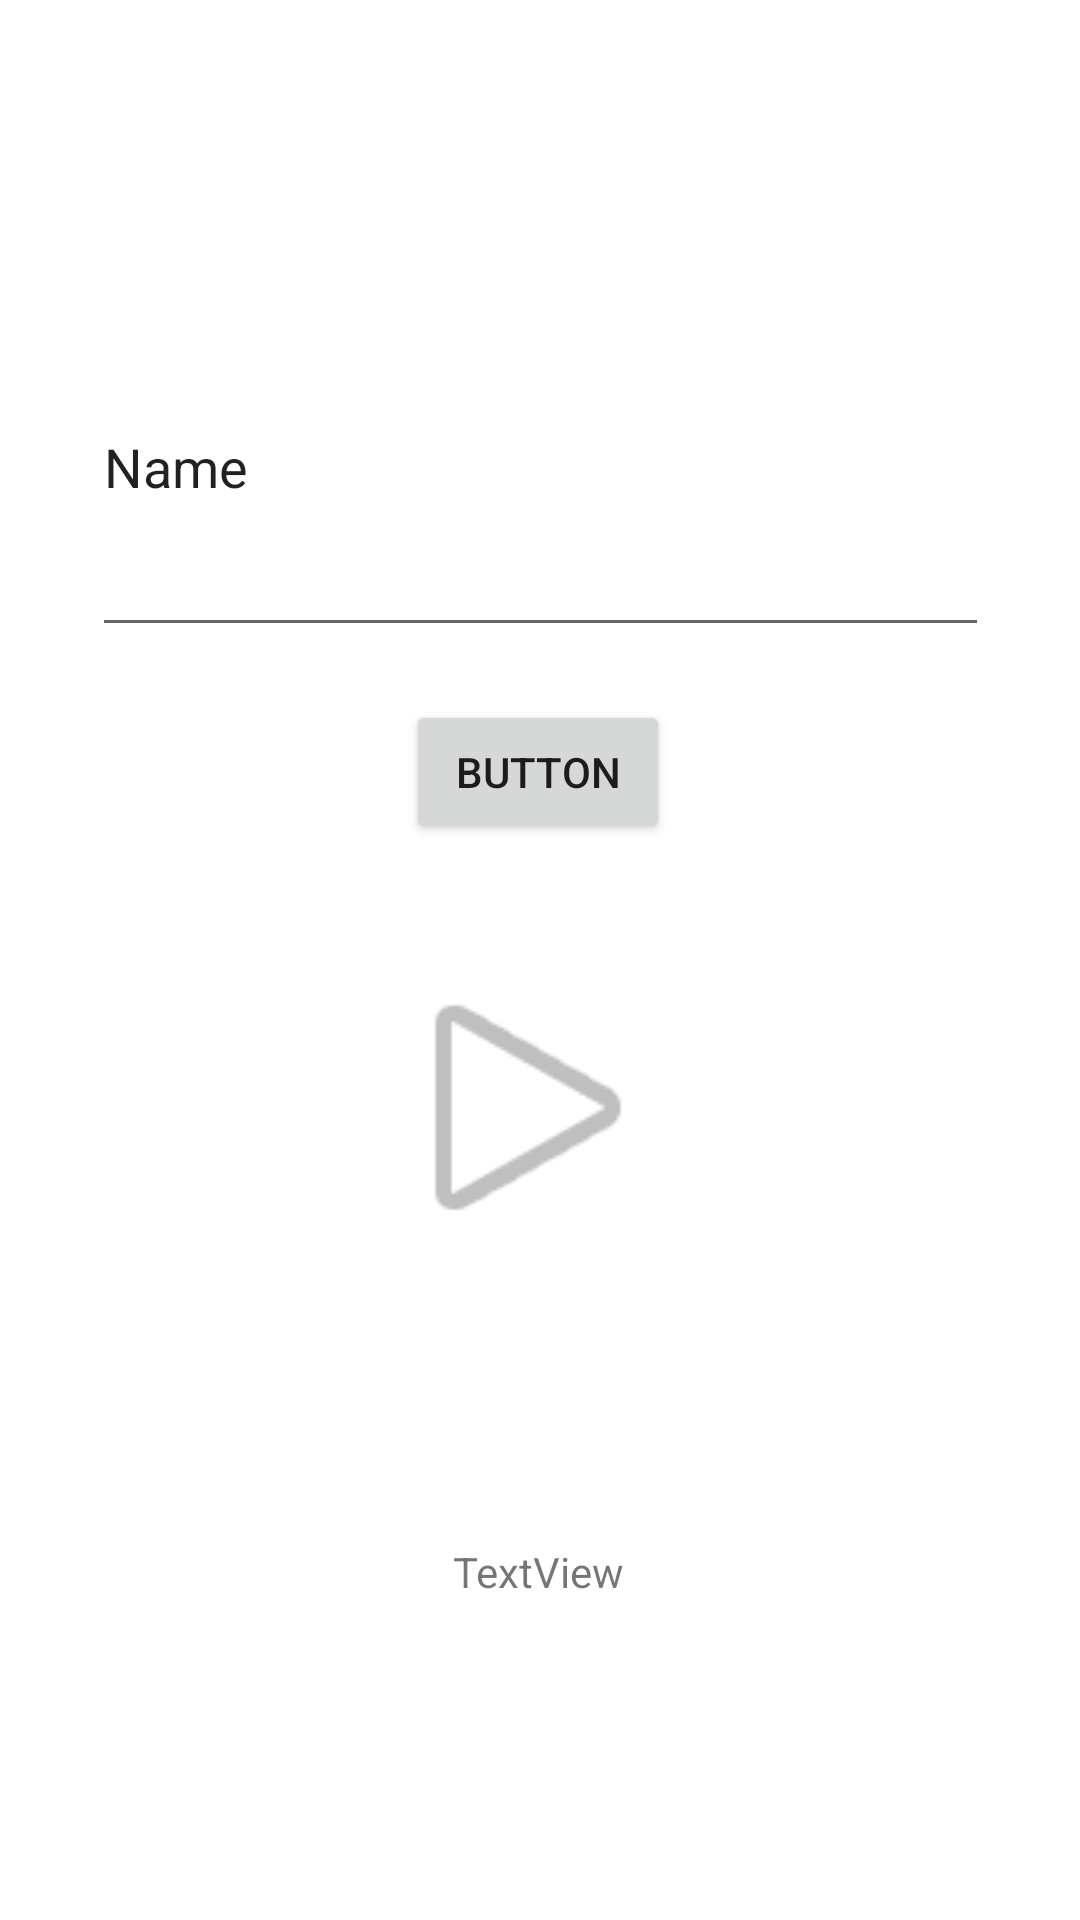

Point at icon controls on the screen. Image size 1080 x 1920, points as [x,y].
play: [528,1107]
